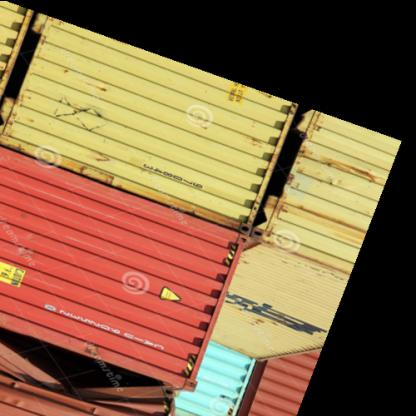Damage: (64, 90, 118, 146)
